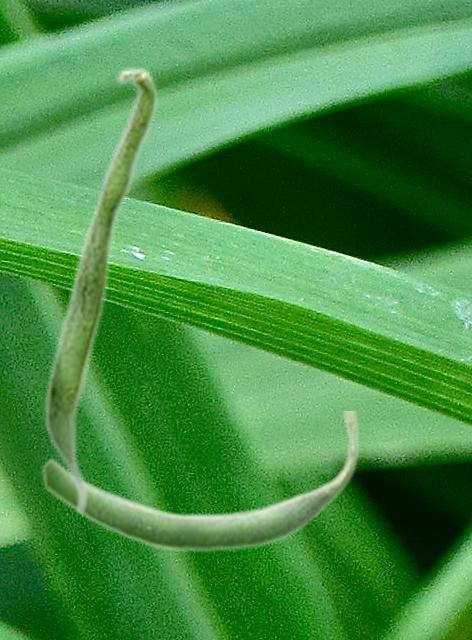french_bean: (43, 65, 158, 517), (41, 411, 359, 553)
